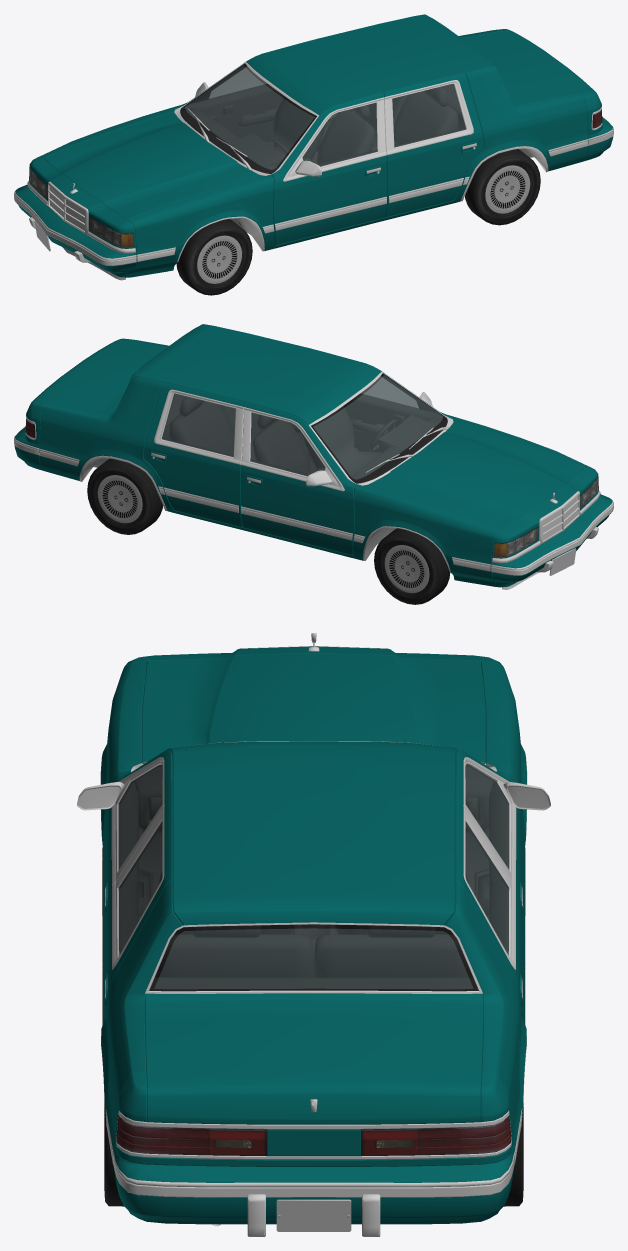
3 renders of one model, top to bottom at view 1: azimuth 30°, elevation 25°; view 2: azimuth 150°, elevation 25°; view 3: azimuth 270°, elevation 25°, orthographic. The views are drawn at different scales.
Parts seen in each view (by area): view 1: Body, Hood, Windshield, Fenders_front, Door_FL, Seats, Door_RL, Trunk_door, Wheel_FL, Wheel_RL, Doorcard_FR, Door_Glass_RL (+17 smaller); view 2: Body, Hood, Windshield, Seats, Fenders_front, Door_FR, Door_RR, Trunk_door, Wheel_FR, Wheel_RR, Door_Glass_RR, Door_Glass_FR (+18 smaller); view 3: Body, Trunk_door, Hood, Rear_window, Seats, Bumper_rear, Bumper_rear_inner, Brakelights_glass, Fenders_front, Interior, Body_trim, Door_Glass_RL (+21 smaller).
Boxes of the visible parts, x1,y1,x2,y2 form: Body: [246, 14, 602, 248]; Hood: [44, 112, 259, 219]; Windshield: [180, 63, 316, 173]; Fenders_front: [40, 106, 274, 277]; Door_FL: [271, 92, 387, 245]; Seats: [265, 87, 458, 164]; Door_RL: [383, 72, 484, 217]; Trunk_door: [462, 30, 595, 105]; Wheel_FL: [176, 219, 252, 295]; Wheel_RL: [465, 149, 540, 225]; Doorcard_FR: [180, 64, 283, 141]; Door_Glass_RL: [392, 84, 465, 147]; Body: [25, 324, 381, 558]; Hood: [368, 422, 583, 528]; Windshield: [311, 373, 447, 483]; Seats: [169, 396, 380, 477]; Fenders_front: [353, 416, 587, 586]; Door_FR: [240, 401, 356, 554]; Door_RR: [143, 382, 244, 527]; Trunk_door: [31, 340, 165, 415]; Wheel_FR: [374, 528, 450, 604]; Wheel_RR: [87, 458, 162, 534]; Door_Glass_RR: [161, 394, 235, 456]; Door_Glass_FR: [250, 412, 325, 476]; Body: [101, 741, 526, 1168]; Trunk_door: [144, 993, 483, 1124]; Hood: [142, 653, 485, 762]; Rear_window: [149, 924, 478, 991]; Seats: [155, 871, 472, 977]; Bumper_rear: [113, 1145, 514, 1224]; Bumper_rear_inner: [112, 1151, 515, 1236]; Brakelights_glass: [116, 1115, 511, 1156]; Fenders_front: [101, 661, 526, 848]; Interior: [125, 765, 502, 991]; Body_trim: [116, 741, 511, 1159]; Door_Glass_RL: [118, 821, 162, 954].
Size of the model in its own units: 491 by 133 by 191.
